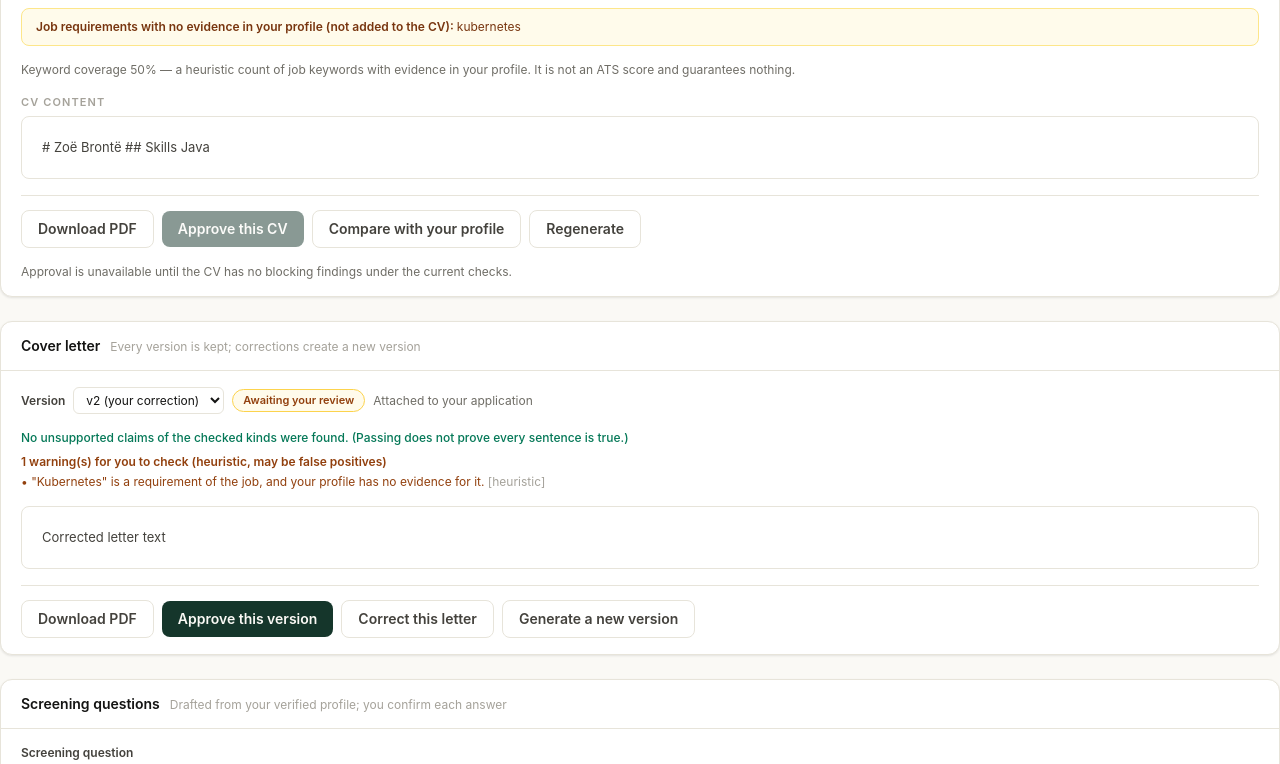
it: PrepWorkspace › lists letter versions, surfaces a refused approval and saves corrections as a new version
(page scrolled)
Expected: the text "Corrected letter text" is shown, left=21, top=506, right=1259, bottom=569
Select "v1" in the dropdown labelled "Version": (149, 401) left=73, top=387, right=224, bottom=414
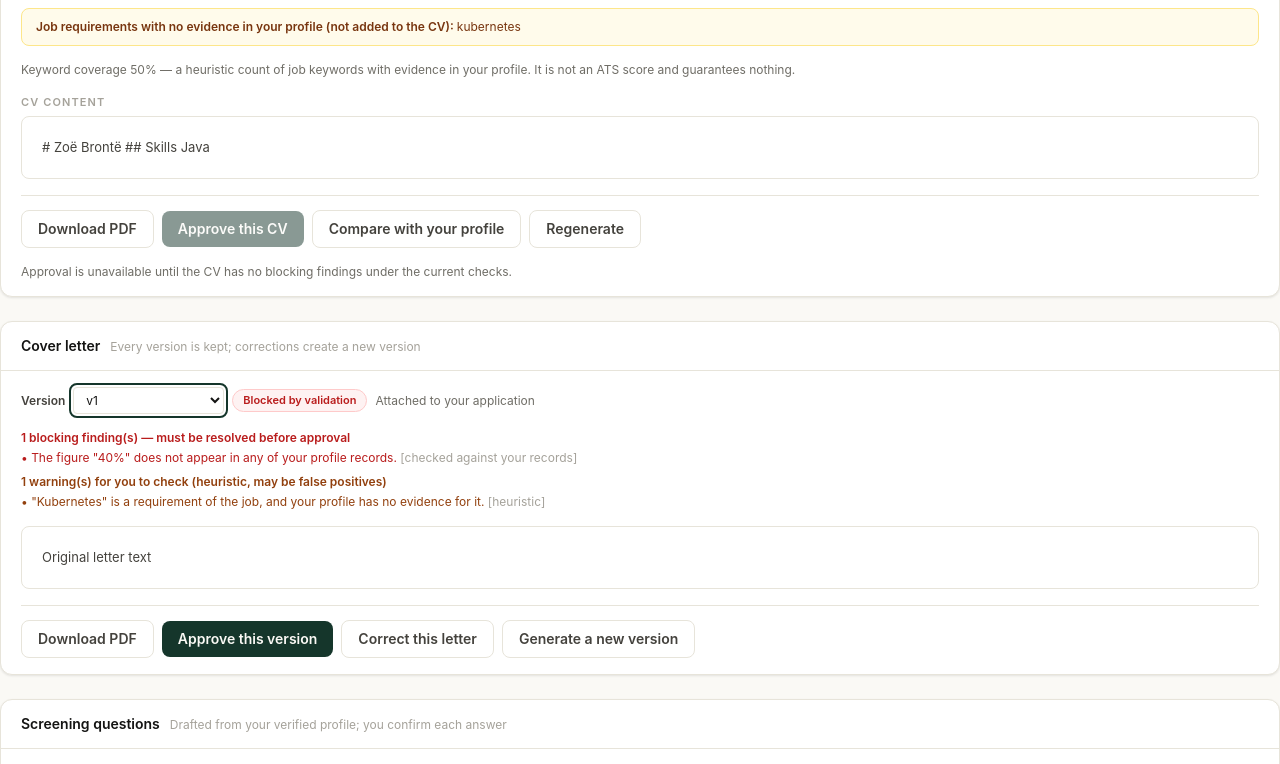
Expected: the text "Original letter text" is shown, left=21, top=526, right=1259, bottom=589
Click the button "Approve this version": (248, 639) left=162, top=621, right=333, bottom=657
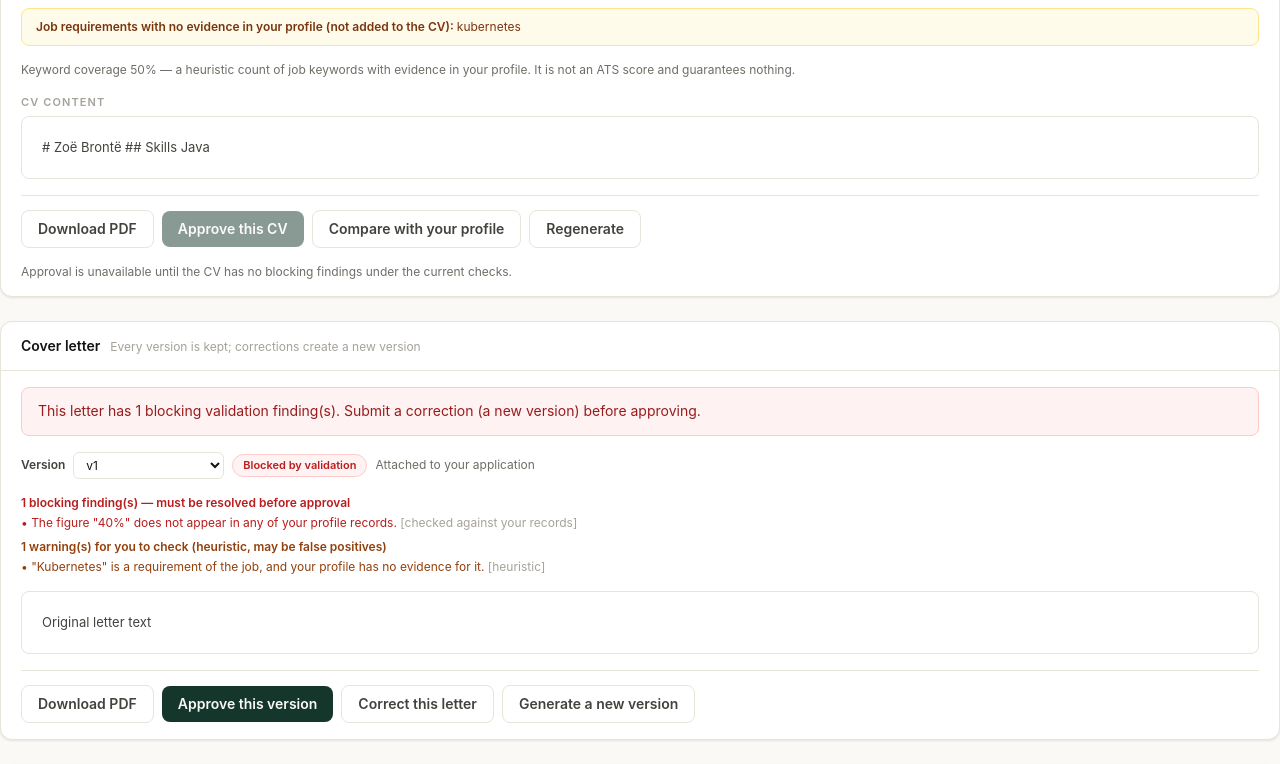
Expected: the text "Submit a correction (a new version) before approving" is shown, left=38, top=402, right=701, bottom=419
Click the button "Correct this letter": (418, 704) left=341, top=685, right=494, bottom=723
(page scrolled)
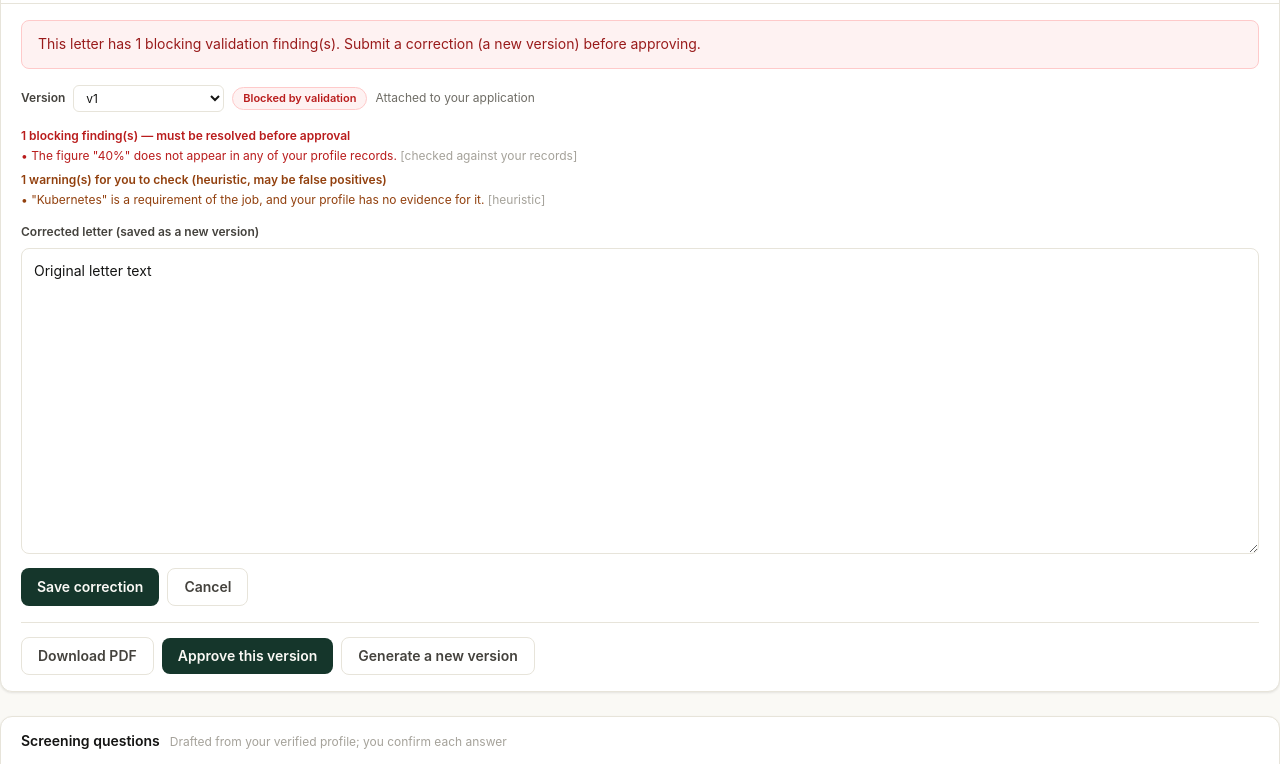
Replace the text in the text box labelled "Corrected letter (saved as a new version)" with "Fixed text": (640, 401) left=21, top=248, right=1259, bottom=554
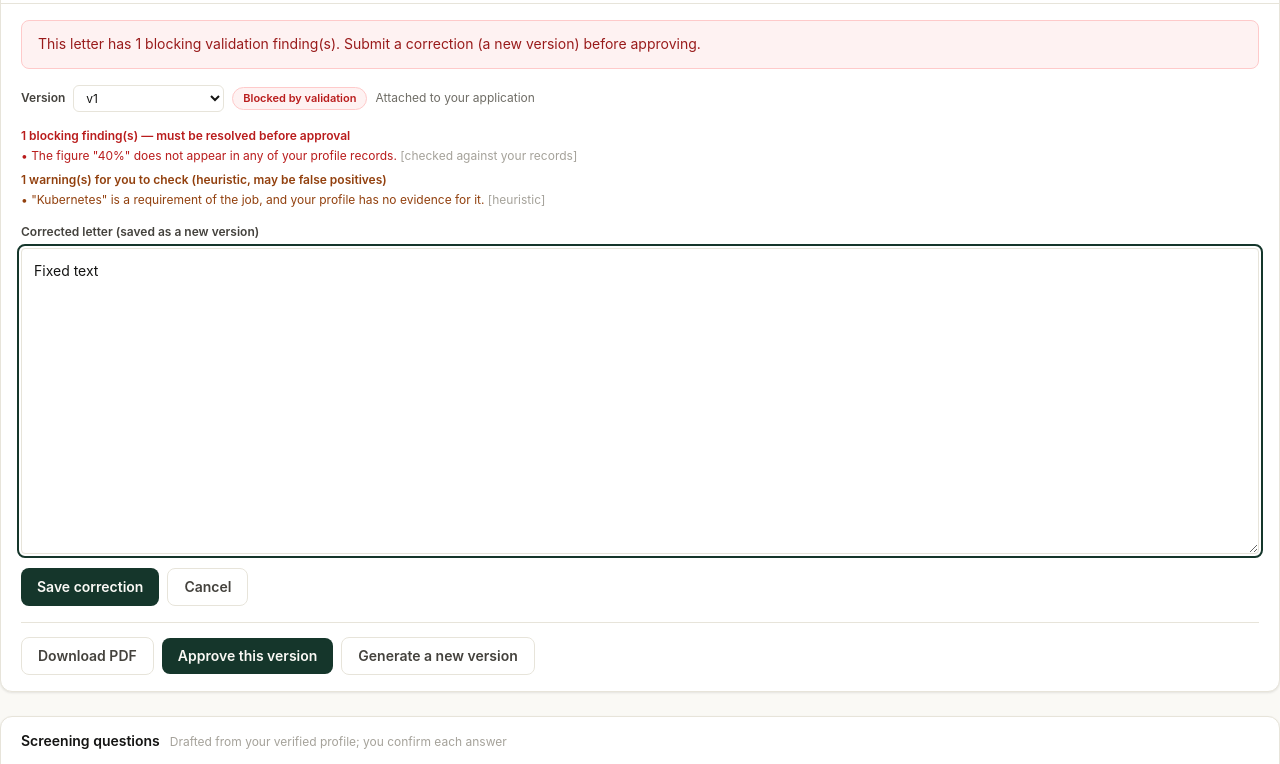
Click the button "Save correction": (90, 587) left=21, top=568, right=159, bottom=606
(page scrolled)
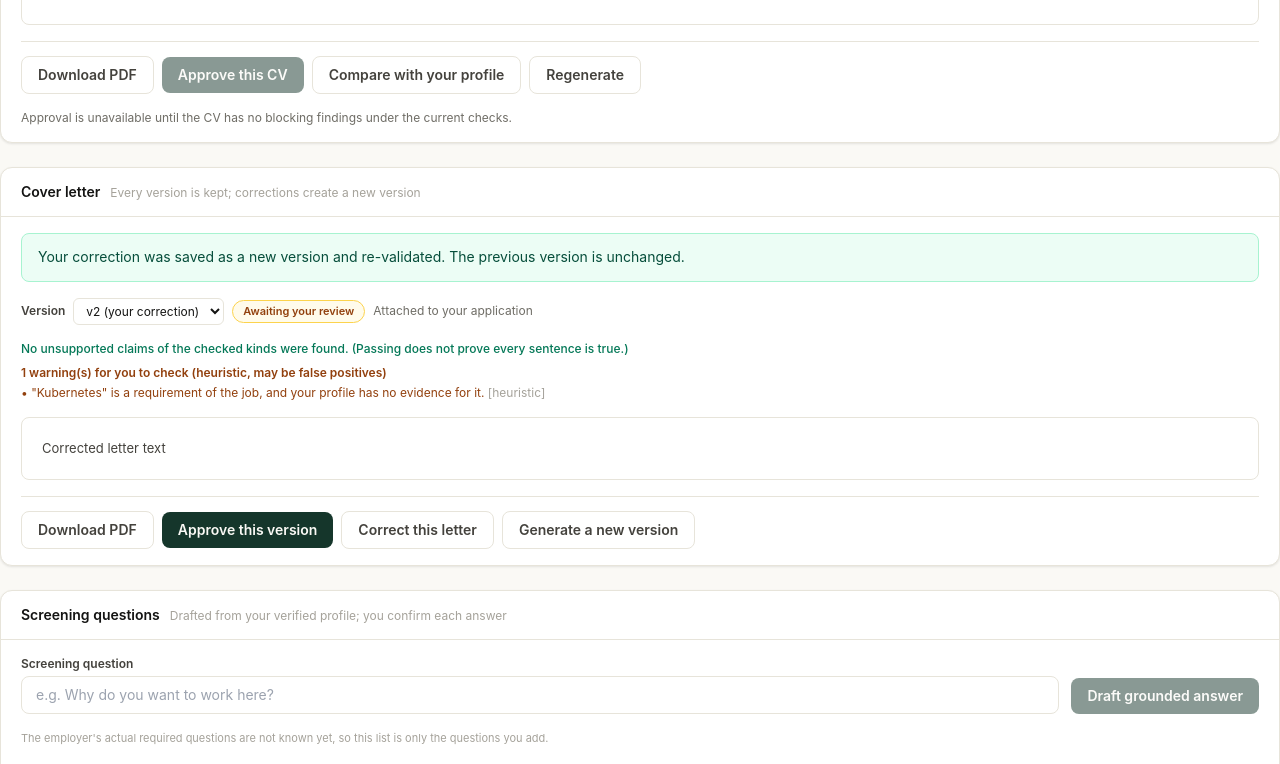
Expected: the text "saved as a new version and re-validated" is shown, left=38, top=248, right=685, bottom=265
